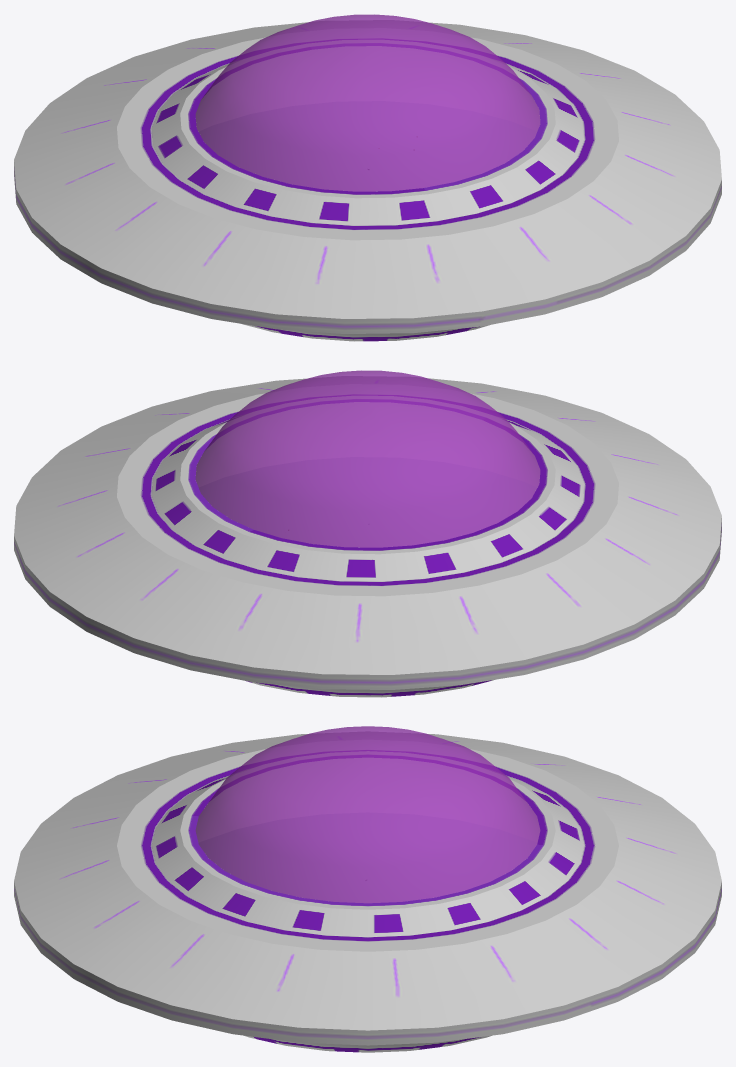
The model's file is ufo.glb.
The picture shows the model from 3 angles, top to bottom: view 1: azimuth 30°, elevation 25°; view 2: azimuth 150°, elevation 25°; view 3: azimuth 270°, elevation 25°; orthographic projection.
Parts seen in each view (by area): view 1: ufo; view 2: ufo; view 3: ufo.
Boxes of the visible parts, x1,y1,x2,y2 form: ufo: [14, 14, 721, 341]; ufo: [14, 370, 721, 697]; ufo: [14, 726, 721, 1052].
Size of the model in its own units: 5.92 by 2.11 by 5.92.
Materials: 17 (2 with a texture image).
